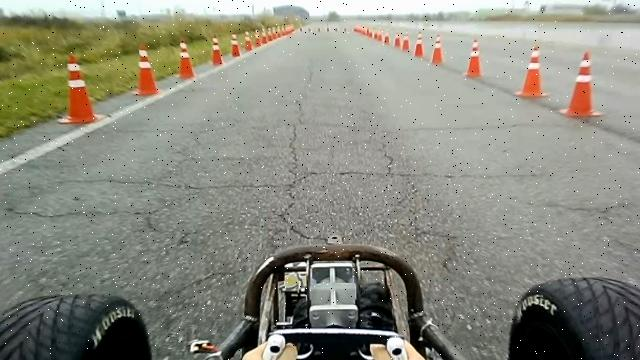red cone: (558, 50, 604, 118), (56, 52, 99, 124), (513, 44, 550, 98), (132, 43, 159, 96), (464, 38, 484, 78), (176, 39, 195, 79), (430, 33, 444, 65), (210, 35, 224, 66), (414, 31, 424, 57), (230, 33, 240, 57), (402, 30, 410, 51), (244, 30, 252, 51), (253, 29, 261, 48), (394, 32, 402, 48)
